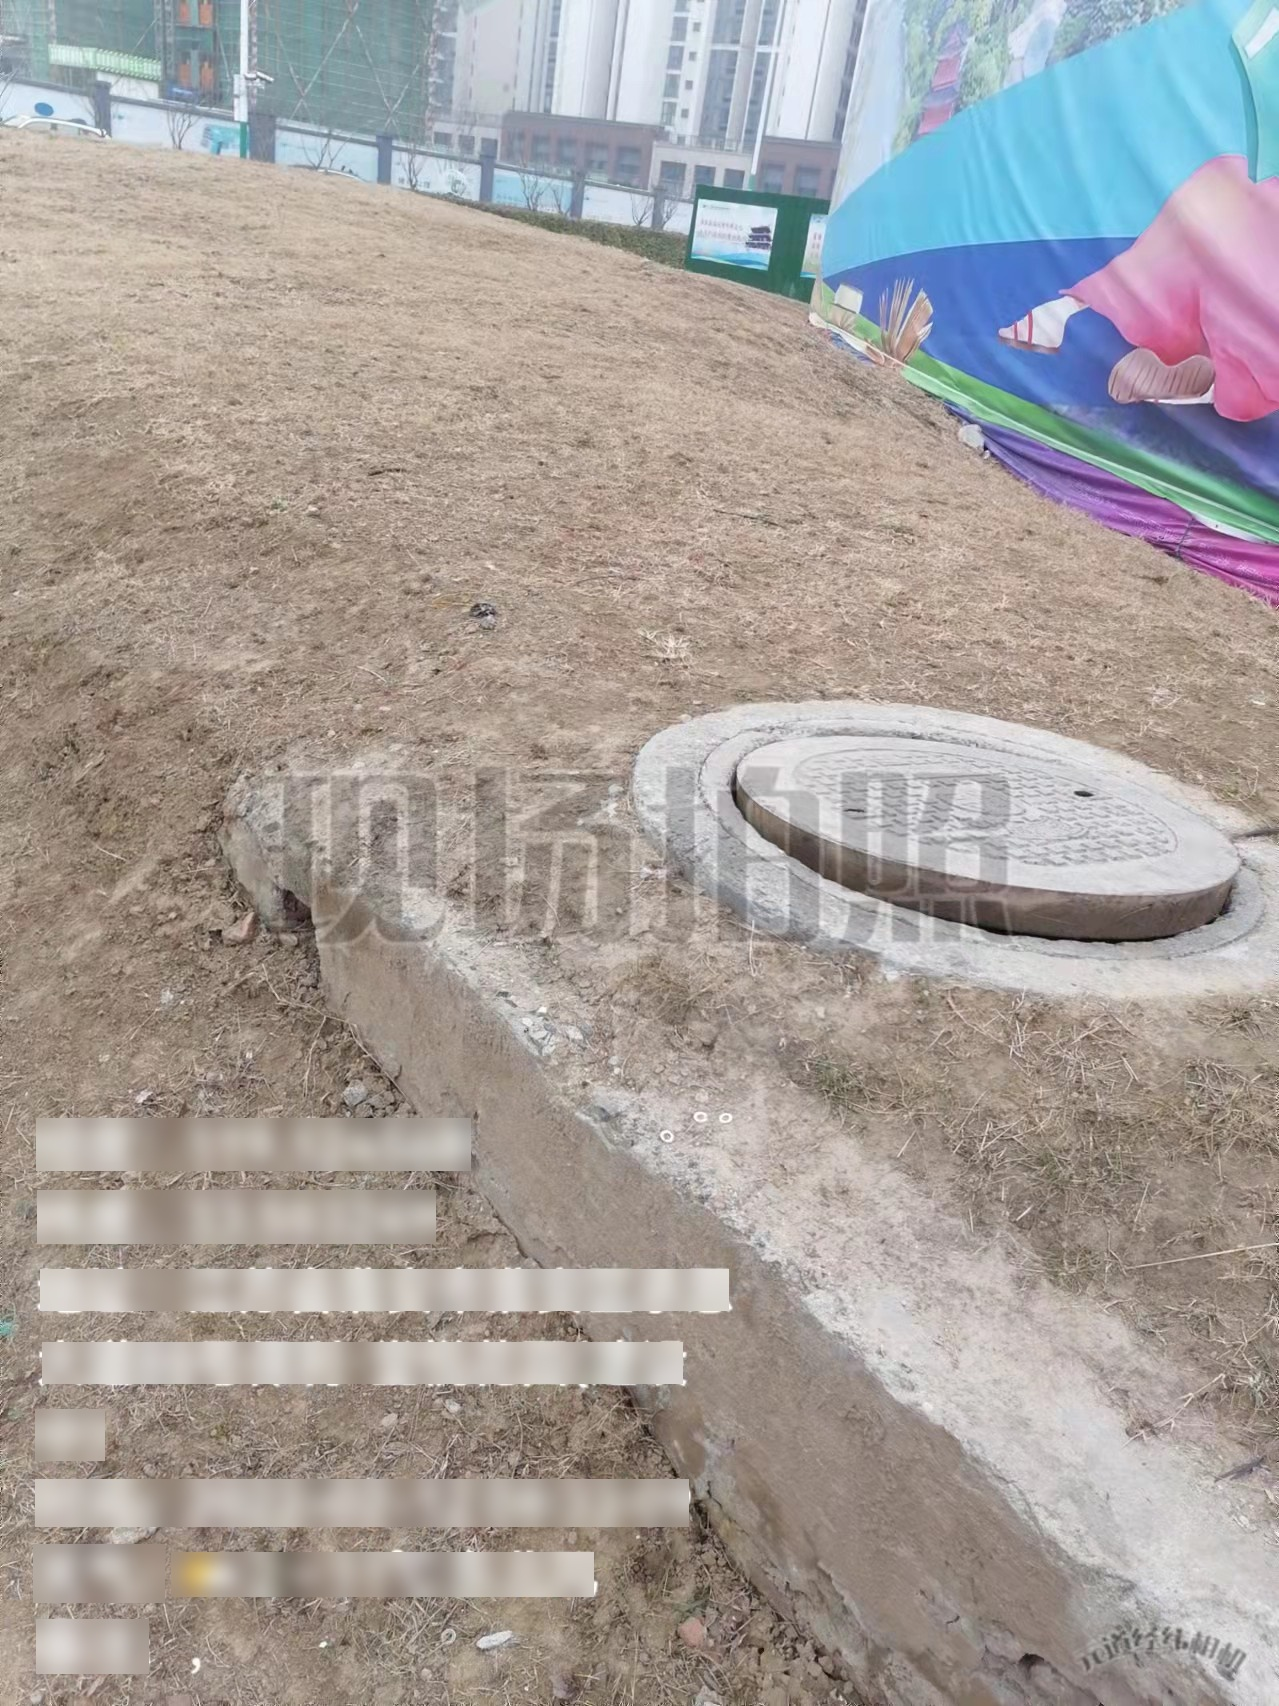uncovered: (691, 725, 1267, 964)
